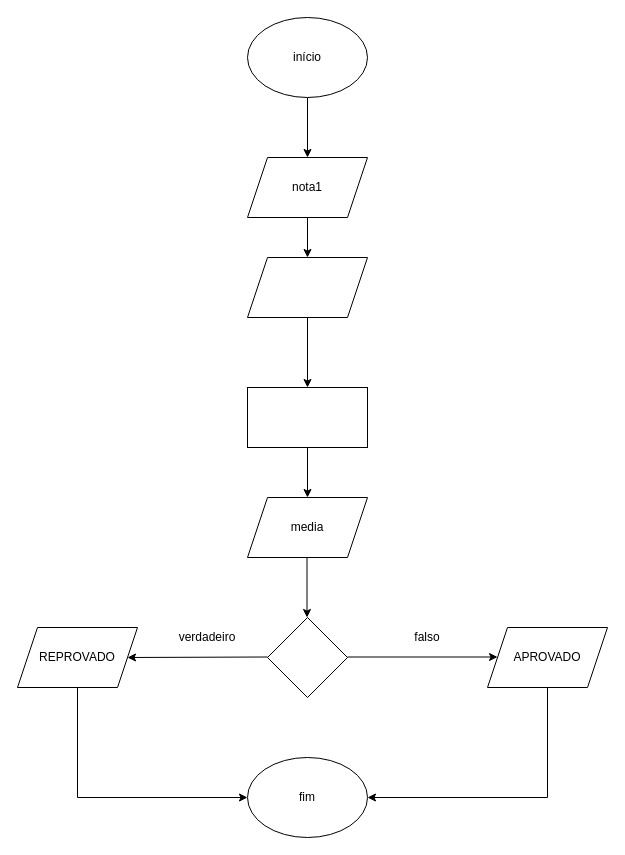
Some shapes in this 625 by 855 pixel diagram are drawn without their labels. The shapes that lost their labels are listed below. From the top down, each one's centre as x and y in pixels, then its label:
[307,287]: nota2
[307,417]: calcularMedia()
[307,657]: media < 5
